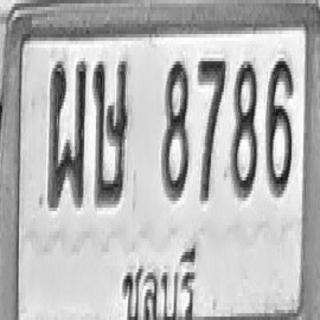A28: (48, 58, 86, 208)
A39: (93, 56, 128, 206)
N06: (266, 56, 293, 196)
N07: (197, 56, 226, 202)
N08: (162, 58, 189, 201), (230, 58, 257, 198)
P13: (116, 238, 202, 320)
